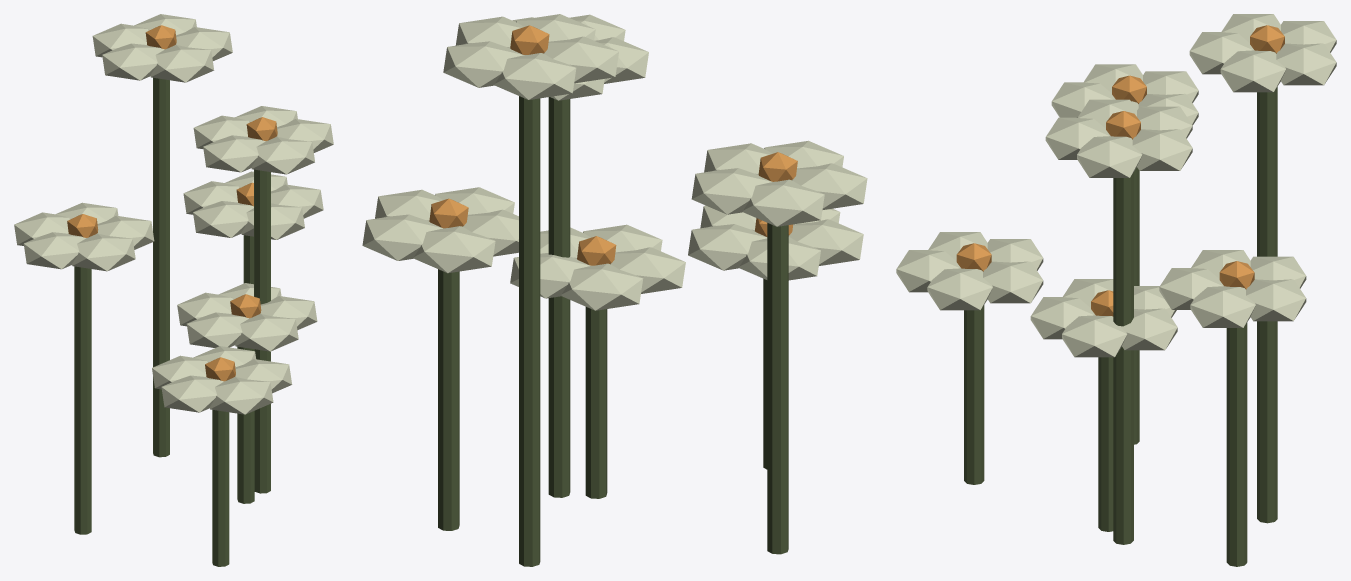
The model's file is flowerInstances.obj.
3 views of the same model, side by side, from view 1: azimuth 30°, elevation 25°; view 2: azimuth 150°, elevation 25°; view 3: azimuth 270°, elevation 25° (orthographic). The views are drawn at different scales.
Parts seen in each view (by area): view 1: flowerInstances; view 2: flowerInstances; view 3: flowerInstances.
Boxes of the visible parts, x1,y1,x2,y2 form: flowerInstances: (14, 14, 333, 566); flowerInstances: (362, 14, 867, 566); flowerInstances: (896, 14, 1336, 566).
Size of the model in its own units: 0.3528 by 0.424 by 0.3426.
Materials: 1 (1 with a texture image).
